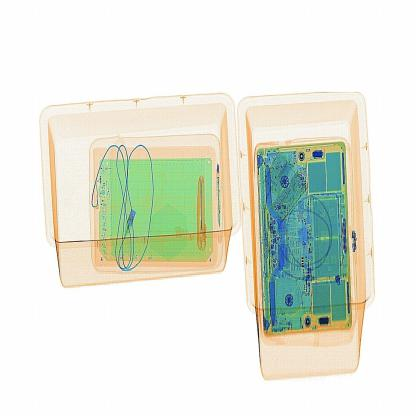wrench: (194, 174, 211, 256)
